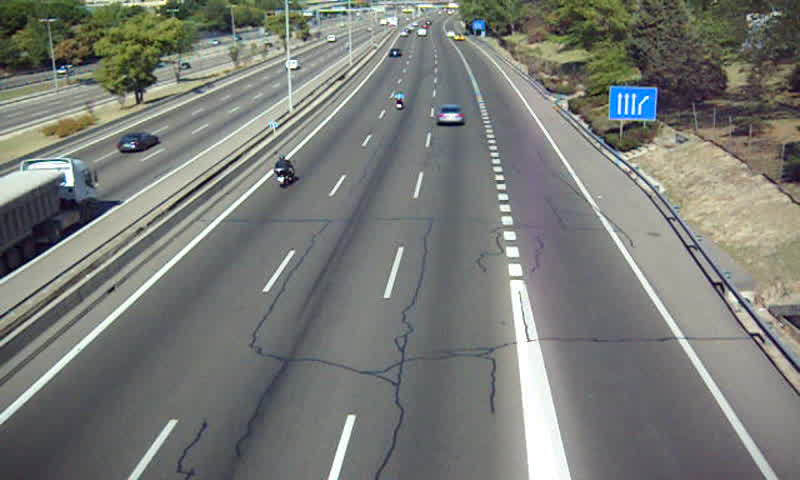car: (435, 104, 464, 124), (388, 47, 402, 58)
motorcycle: (272, 155, 296, 187), (394, 91, 406, 111)
